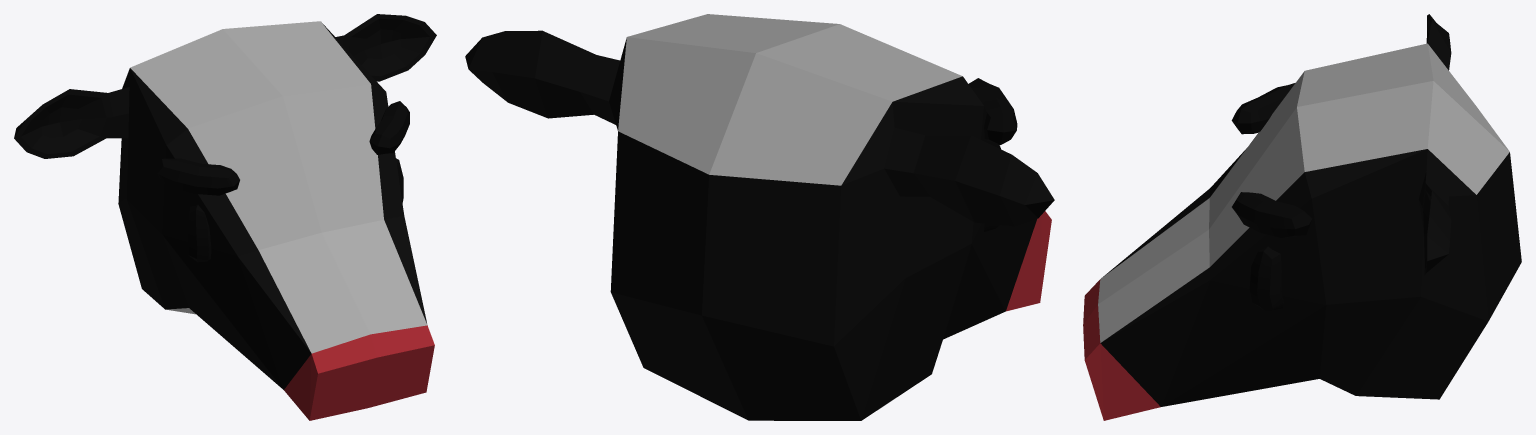
The model's file is Head_Cow.FBX.
3 views of the same model, side by side, from view 1: azimuth 30°, elevation 25°; view 2: azimuth 150°, elevation 25°; view 3: azimuth 270°, elevation 25° (orthographic). The views are drawn at different scales.
Parts seen in each view (by area): view 1: Body; view 2: Body; view 3: Body.
Boxes of the visible parts, x1,y1,x2,y2 form: Body: [14, 14, 436, 420]; Body: [465, 14, 1054, 420]; Body: [1083, 14, 1521, 420].
Size of the model in its own units: 55.65 by 36.11 by 44.06.
